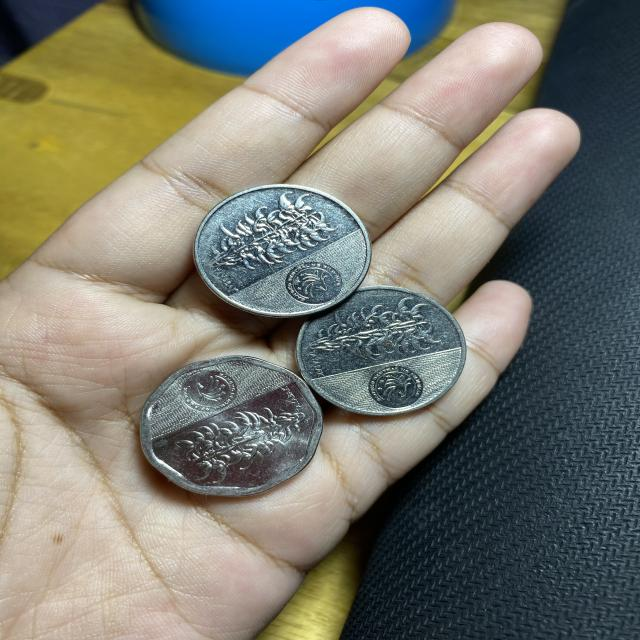5_New_Back: (180, 399, 309, 478), (217, 195, 340, 272), (323, 301, 437, 363)
